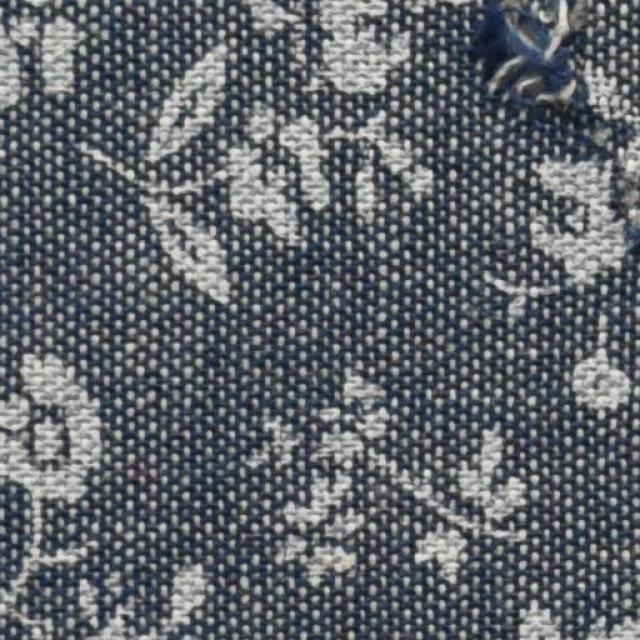Snag: (463, 4, 609, 122)
